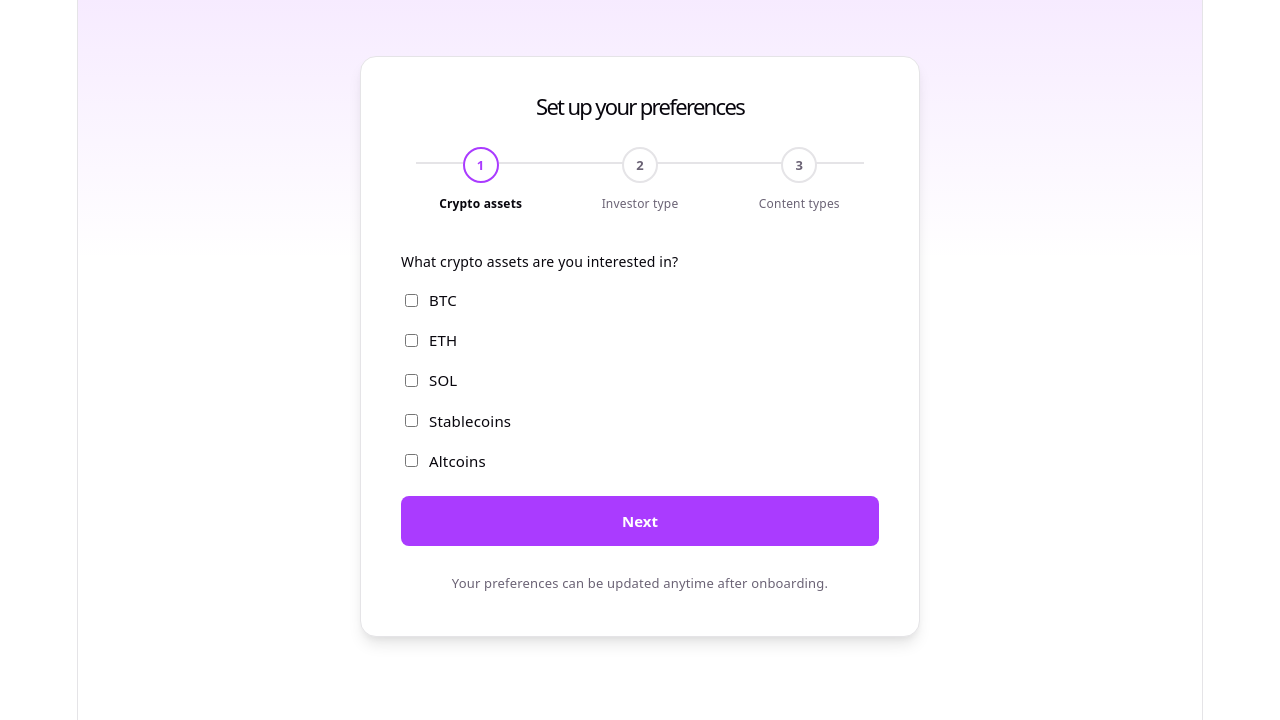
it: OnboardingPage › blocks advancing to the next step until a crypto asset is selected
This screenshot has width=1280, height=720.
Click the button "Next": (640, 521) top-left (401, 496), bottom-right (879, 546)
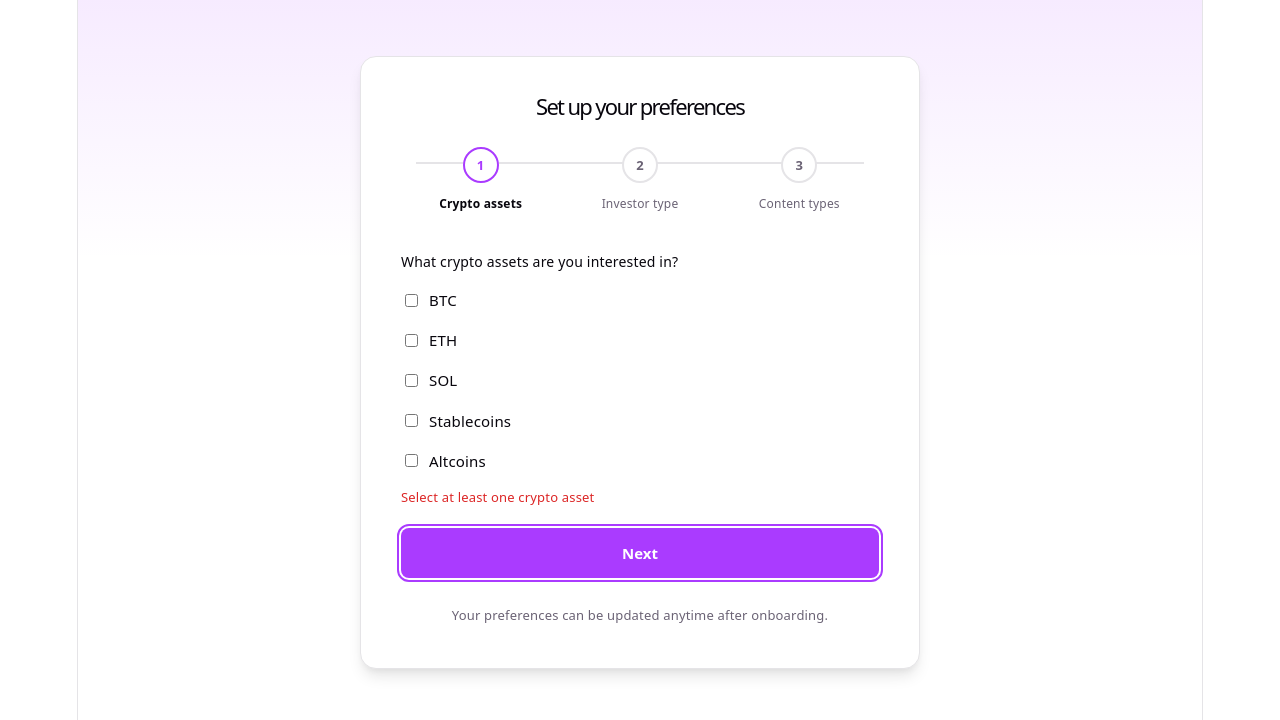
Expected: the checkbox labelled "BTC" is shown, top-left (405, 294), bottom-right (418, 307)
Expected: the text "Select at least one crypto asset" is shown, top-left (401, 488), bottom-right (594, 506)
